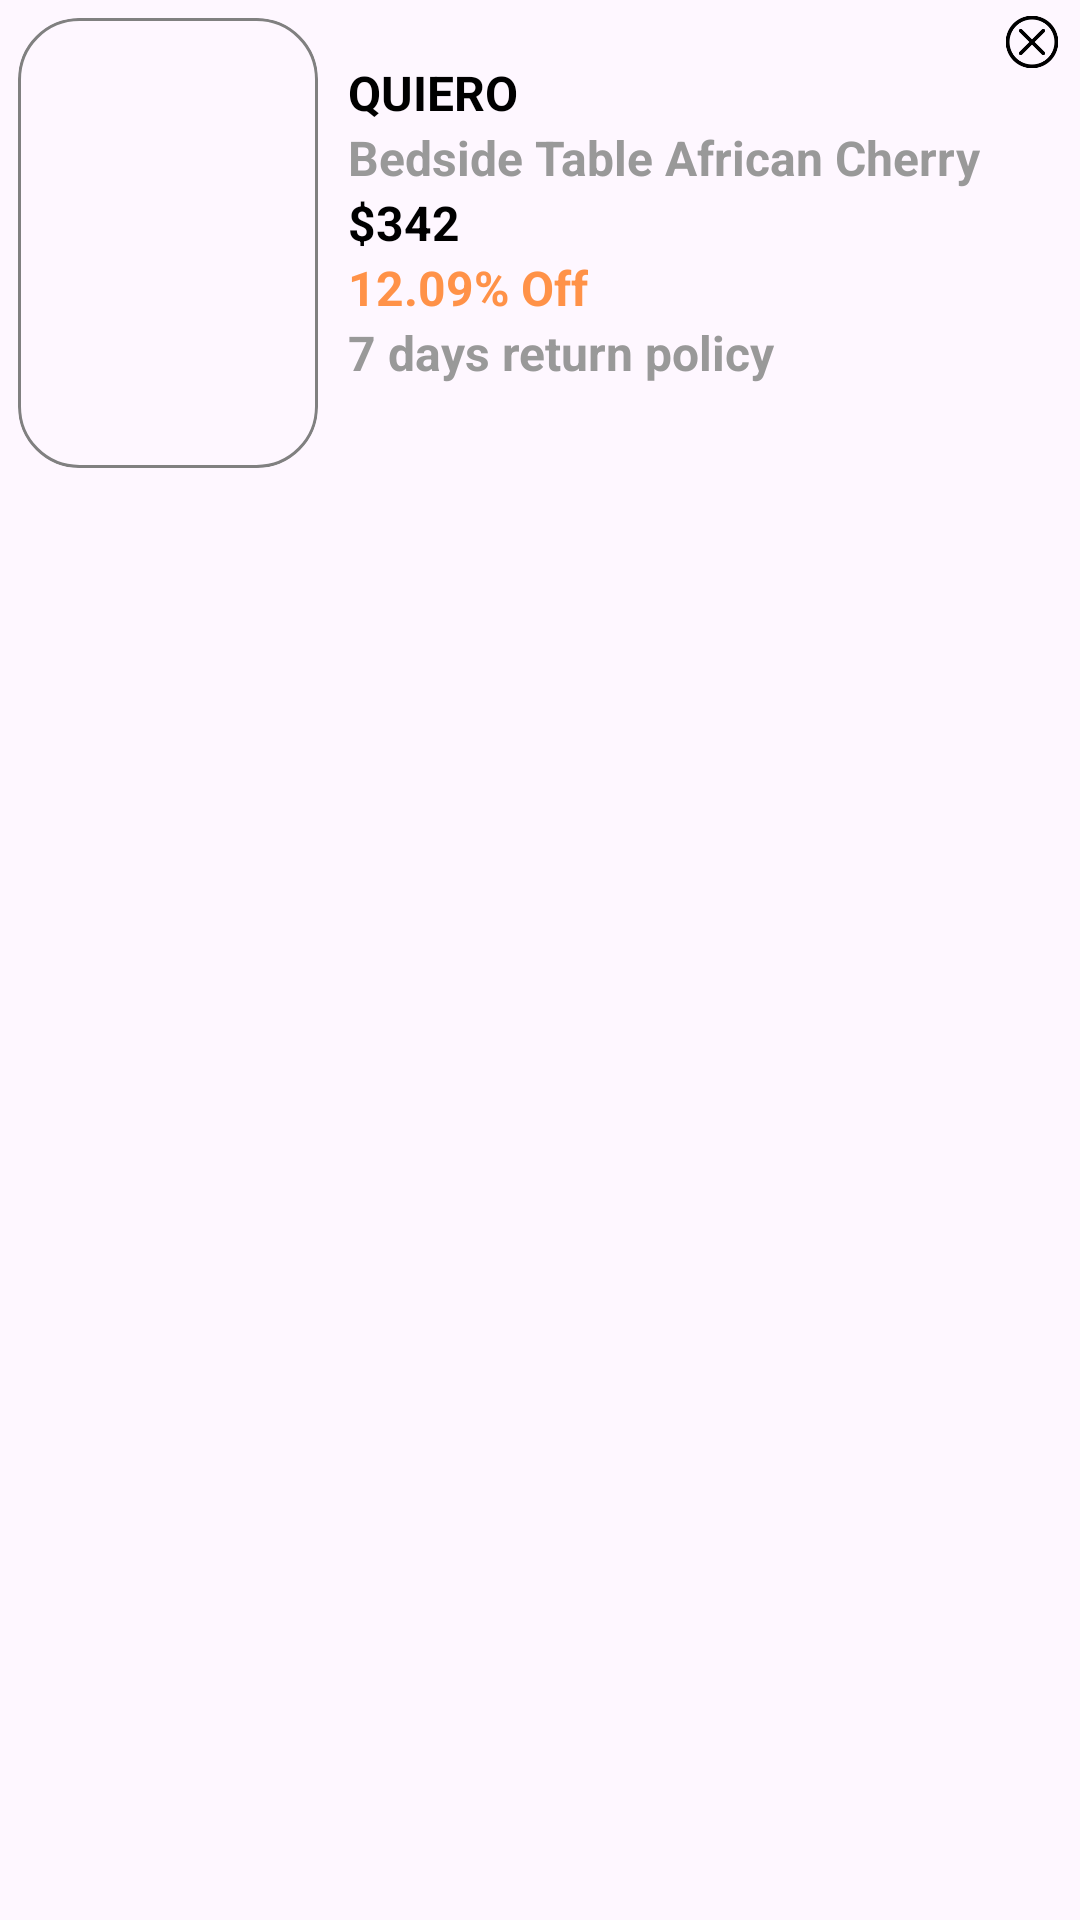

Screen size 1080*1920. Icon name, then its box in pixels as (left=x1, top=y1, right=x2, bottom=y2):
cross: (left=1006, top=16, right=1058, bottom=68)
